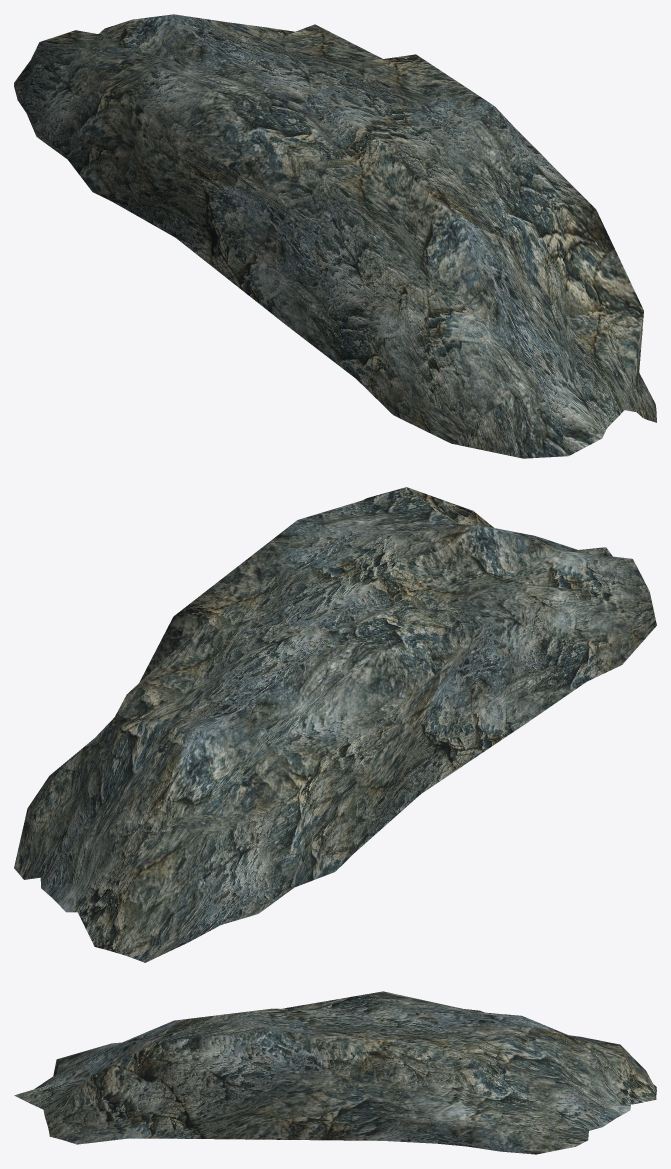
File: rockBlobThree.fbx
3 renders of one model, top to bottom at view 1: azimuth 30°, elevation 25°; view 2: azimuth 150°, elevation 25°; view 3: azimuth 270°, elevation 25°, orthographic. The views are drawn at different scales.
Visible parts, largest first — view 1: pPlane1; view 2: pPlane1; view 3: pPlane1.
Boxes of the visible parts, x1,y1,x2,y2 form: pPlane1: [14, 14, 656, 458]; pPlane1: [14, 487, 656, 962]; pPlane1: [14, 991, 656, 1154].
Bounding box in the file's own units: 20.78 × 66.85 × 12.93.
